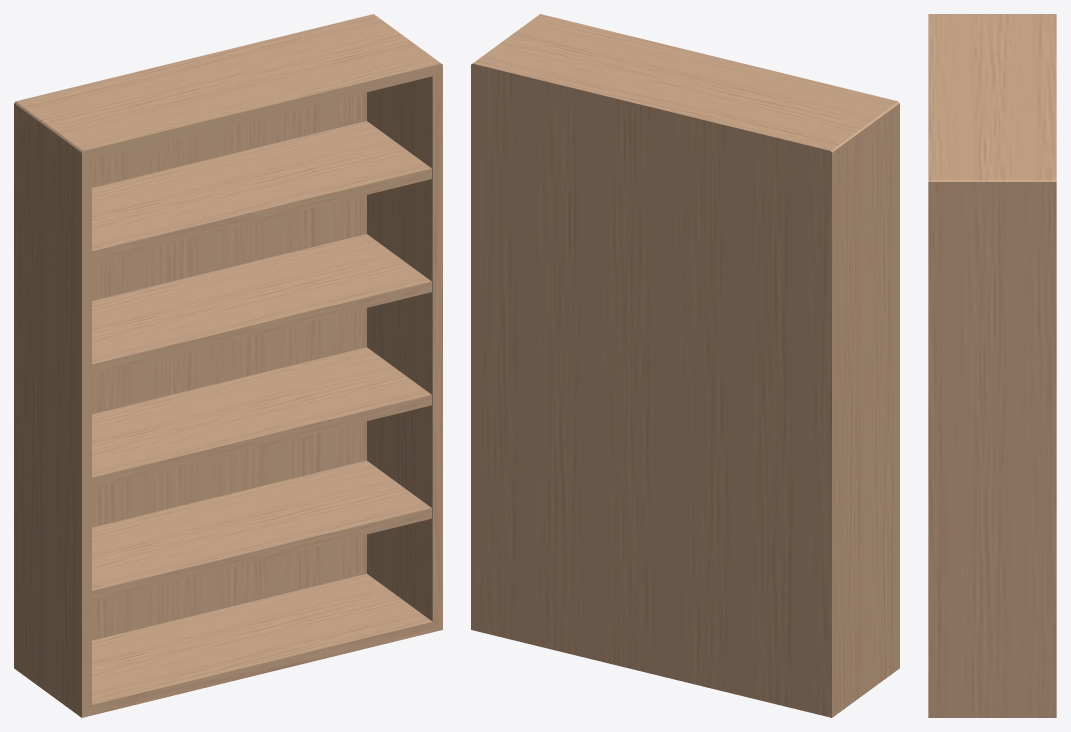
Rendered from Bookshelf_B.FBX.
3 views of the same model, side by side, from view 1: azimuth 30°, elevation 25°; view 2: azimuth 150°, elevation 25°; view 3: azimuth 270°, elevation 25° (orthographic). The views are drawn at different scales.
Parts seen in each view (by area): view 1: Bookshelf; view 2: Bookshelf; view 3: Bookshelf.
Part boxes in pixels (box(x1,y1,x2,y2)): Bookshelf: box(14, 14, 442, 717); Bookshelf: box(471, 14, 899, 717); Bookshelf: box(928, 14, 1056, 717).
Bounding box in the file's own units: 200 × 300 × 65.
